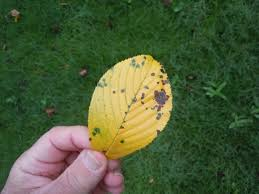Diseased_Leaves: (104, 78, 152, 121), (153, 88, 168, 111), (129, 59, 150, 72), (92, 123, 101, 139)
